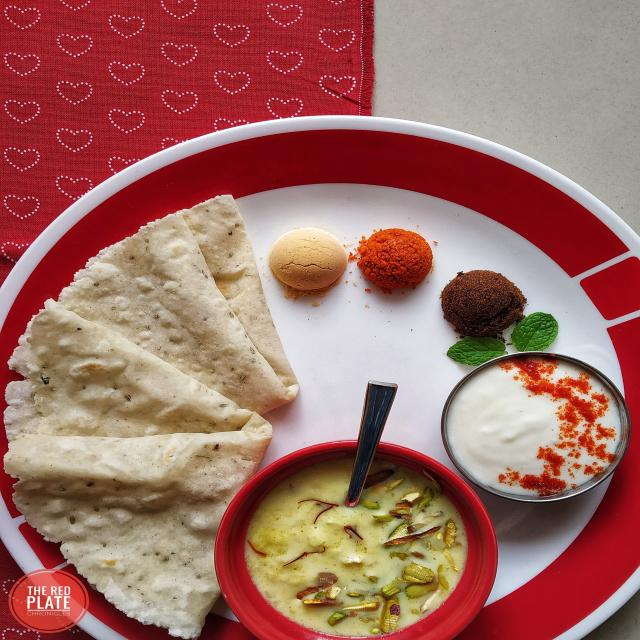SAMOSA: (4, 304, 265, 639), (52, 184, 295, 408)
